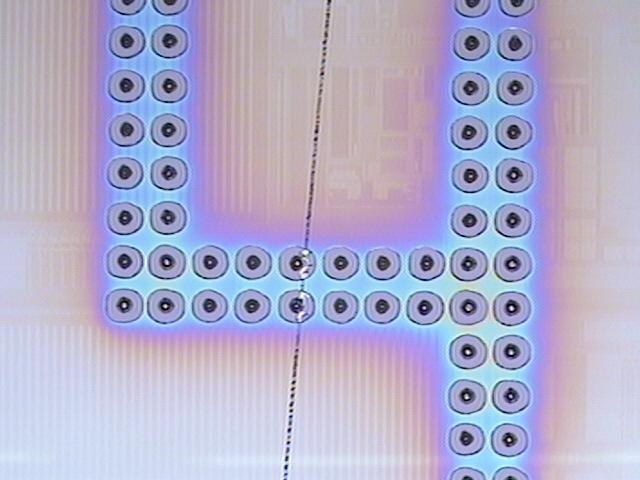SCRATCH: (272, 1, 341, 480)
